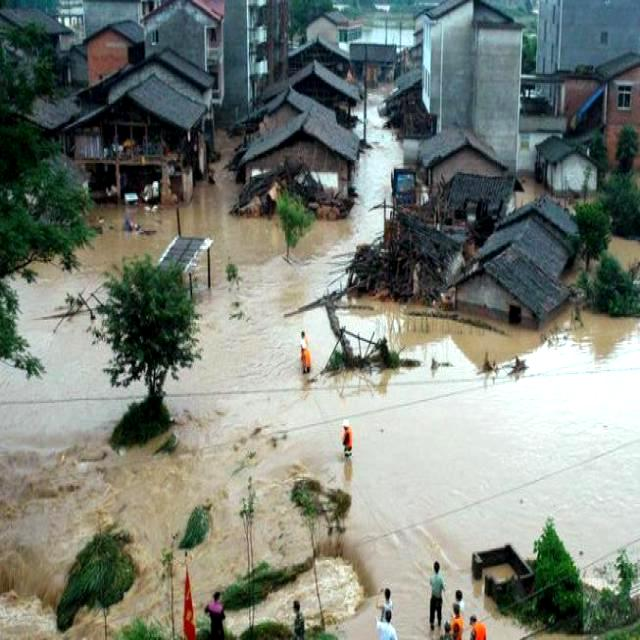civilian: (195, 589, 245, 640), (425, 553, 449, 640), (368, 606, 404, 640), (374, 586, 400, 624), (288, 592, 306, 637), (466, 615, 491, 640), (454, 584, 474, 614), (449, 606, 467, 636), (448, 621, 466, 640), (439, 619, 455, 640)
rescuer: (334, 418, 366, 468), (293, 329, 321, 379)
